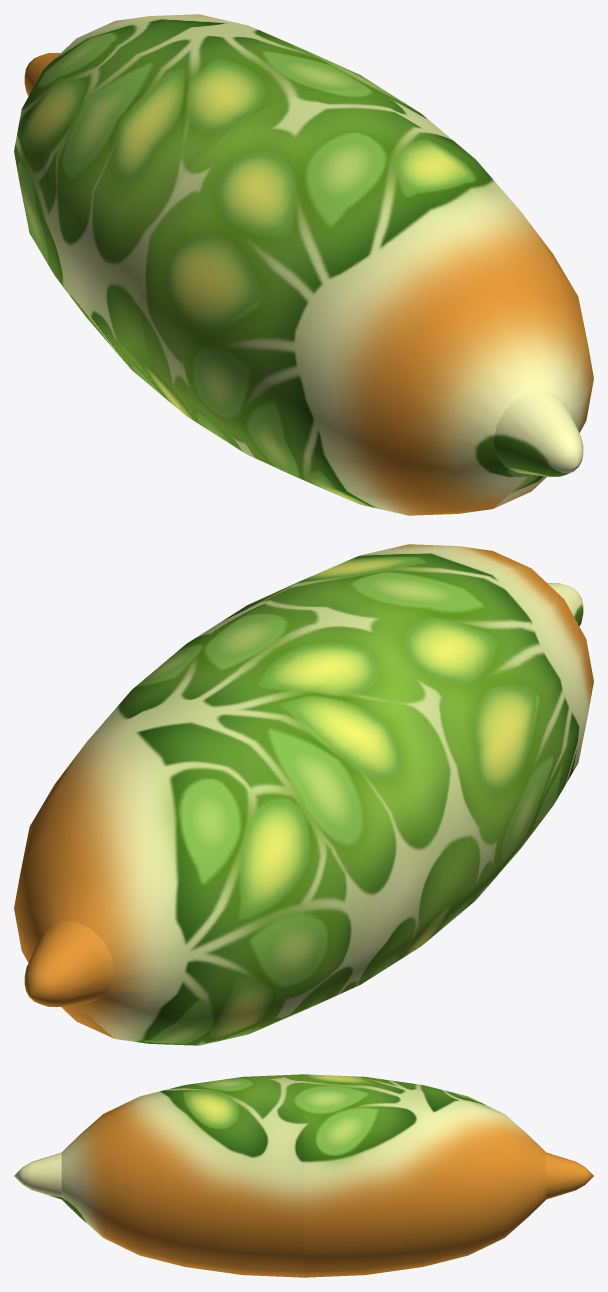
File: FingerLime_01.fbx
3 views of the same model, one above another, from view 1: azimuth 30°, elevation 25°; view 2: azimuth 150°, elevation 25°; view 3: azimuth 270°, elevation 25° (orthographic). The views are drawn at different scales.
Parts seen in each view (by area): view 1: FingerLime_01; view 2: FingerLime_01; view 3: FingerLime_01.
Boxes of the visible parts, bbox=[...] form: FingerLime_01: bbox=[14, 14, 593, 515]; FingerLime_01: bbox=[14, 544, 593, 1045]; FingerLime_01: bbox=[14, 1074, 593, 1277].
Size of the model in its own units: 19.5 by 19.5 by 55.55.
